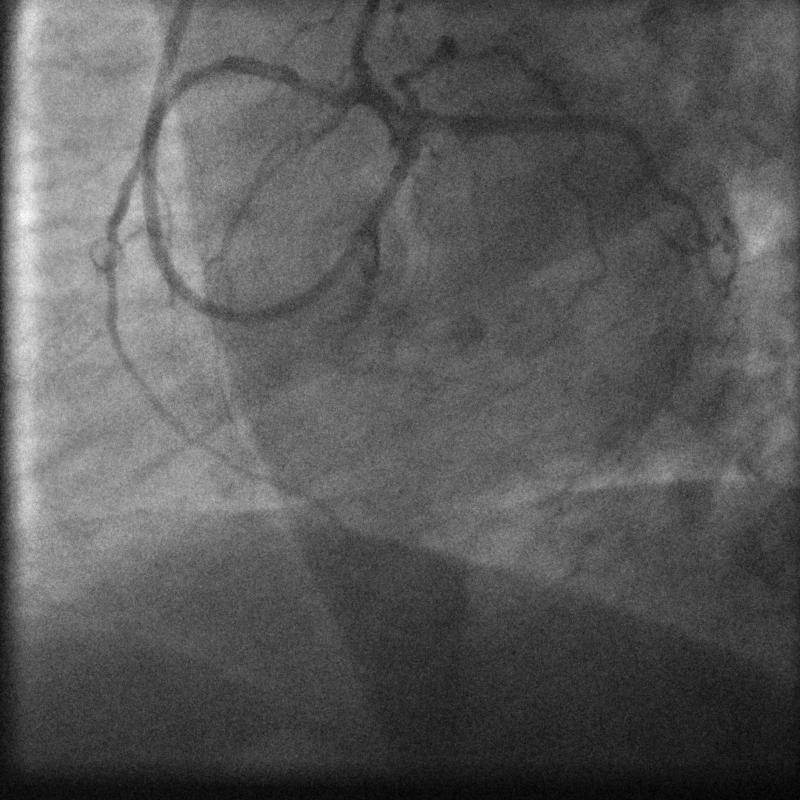Stenosis: (298, 65, 354, 120)
